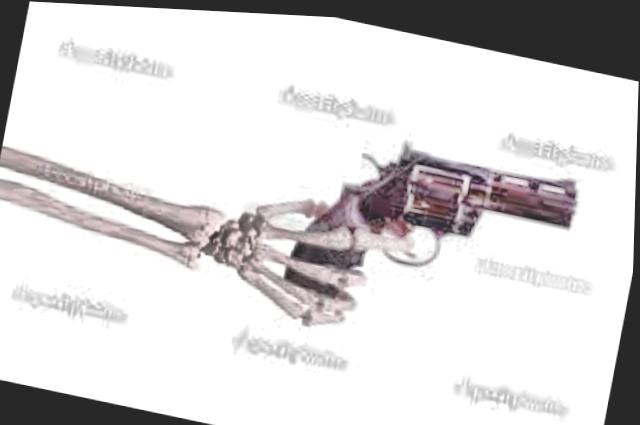pistol: (281, 115, 584, 348)
